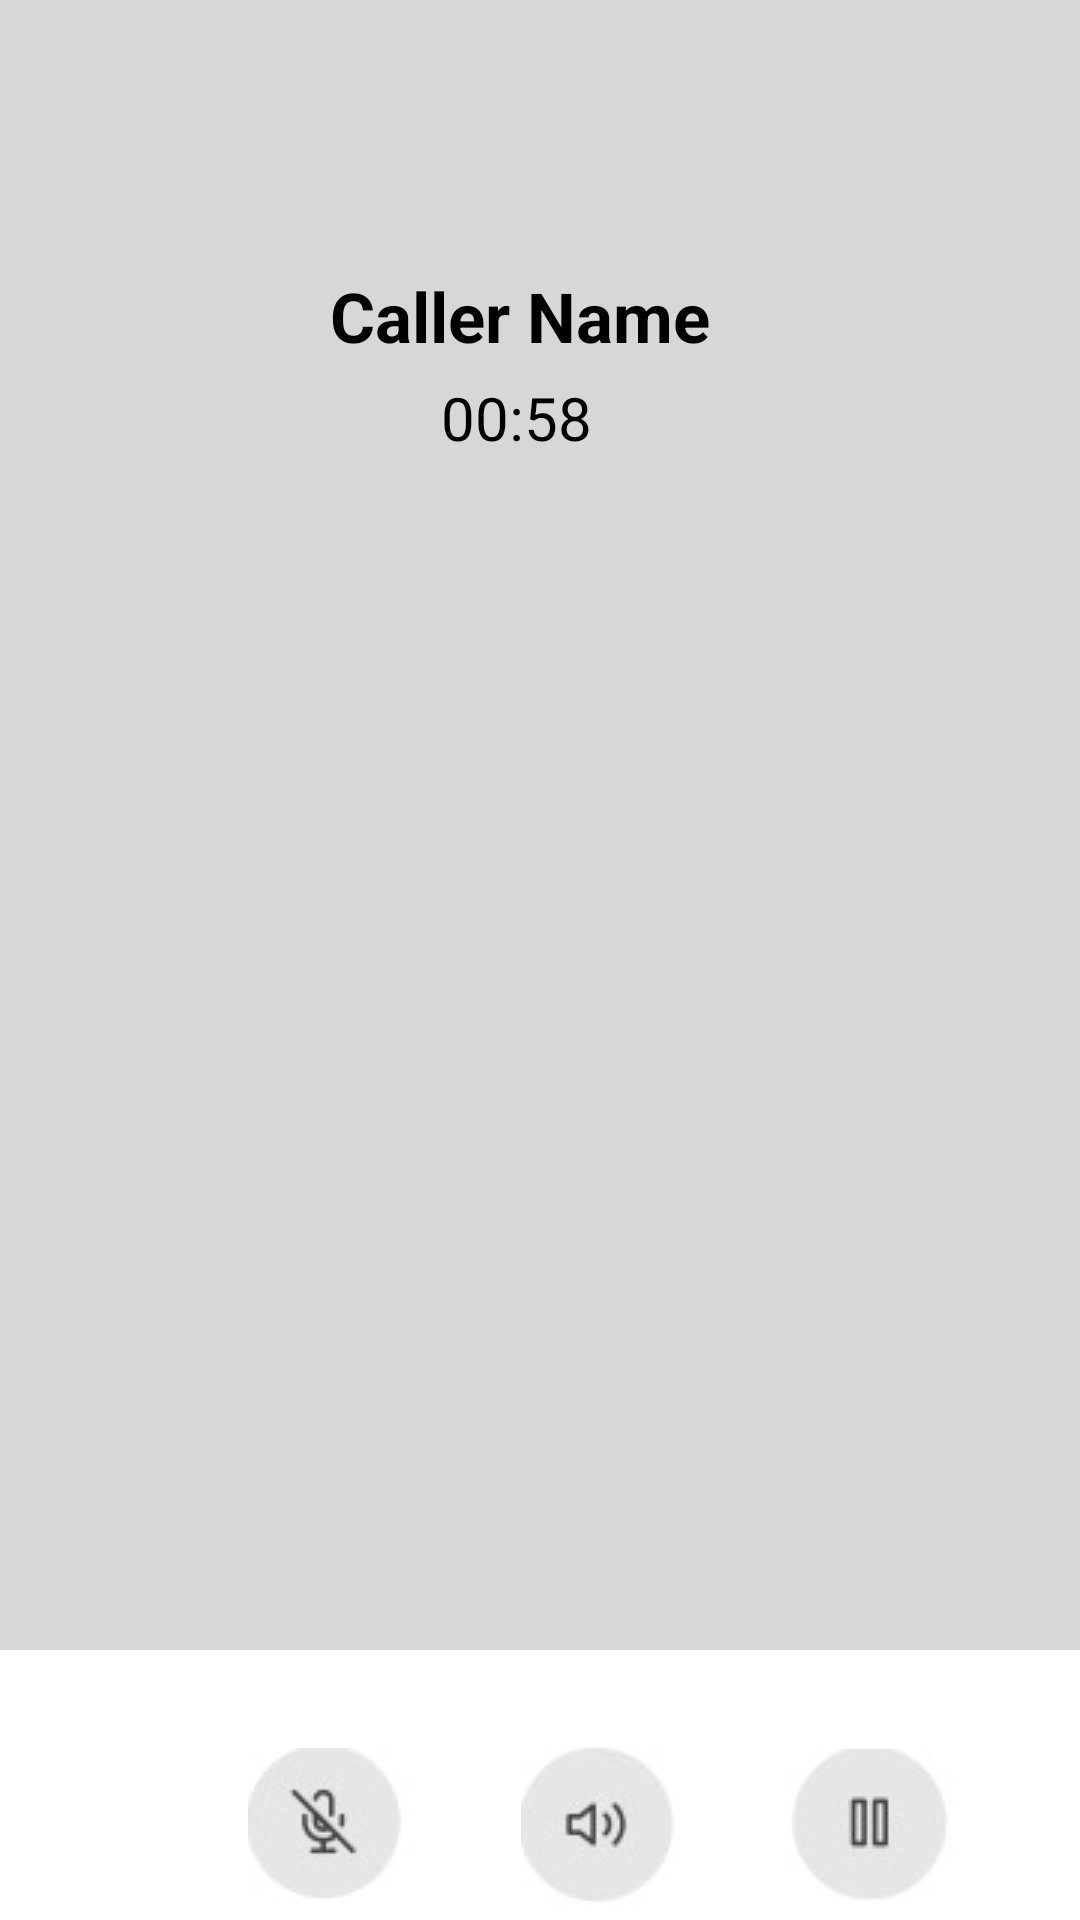

Point at icon controls on the screen. Image size 1080px×1920px, points as (x,y).
mute: (322,1822)
pause: (870,1823)
speaker: (595,1824)
